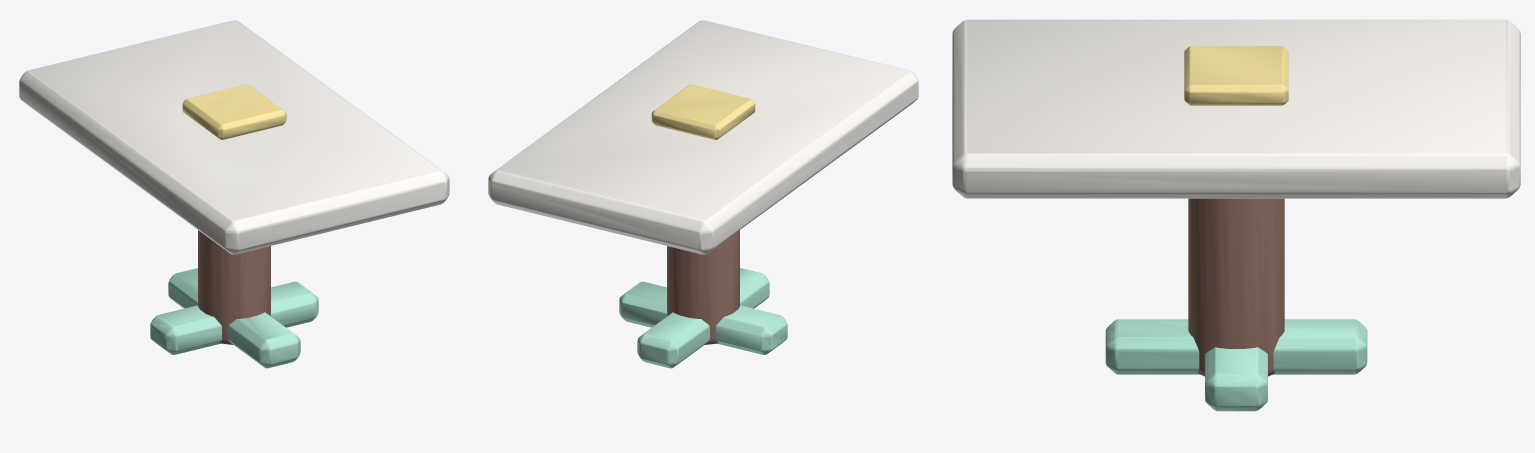
The model's file is dining_table_compact.glb.
3 views of the same model, side by side, from view 1: azimuth 30°, elevation 25°; view 2: azimuth 150°, elevation 25°; view 3: azimuth 270°, elevation 25° (orthographic). The views are drawn at different scales.
Parts seen in each view (by area): view 1: DiningTable_Top, DiningTable_Pedestal, DiningTable_FootA, DiningTable_CenterAccent, DiningTable_FootB; view 2: DiningTable_Top, DiningTable_Pedestal, DiningTable_FootA, DiningTable_CenterAccent, DiningTable_FootB; view 3: DiningTable_Top, DiningTable_Pedestal, DiningTable_FootB, DiningTable_CenterAccent, DiningTable_FootA.
Boxes of the visible parts, left/top/right/bottom form: DiningTable_Top: left=19, top=20, right=449, bottom=254; DiningTable_Pedestal: left=198, top=230, right=270, bottom=344; DiningTable_FootA: left=150, top=281, right=318, bottom=354; DiningTable_CenterAccent: left=182, top=84, right=286, bottom=139; DiningTable_FootB: left=168, top=268, right=300, bottom=368; DiningTable_Top: left=488, top=20, right=918, bottom=254; DiningTable_Pedestal: left=667, top=230, right=739, bottom=344; DiningTable_FootA: left=619, top=281, right=787, bottom=354; DiningTable_CenterAccent: left=651, top=84, right=755, bottom=139; DiningTable_FootB: left=637, top=268, right=769, bottom=368; DiningTable_Top: left=952, top=19, right=1520, bottom=198; DiningTable_Pedestal: left=1188, top=198, right=1284, bottom=376; DiningTable_FootB: left=1105, top=319, right=1367, bottom=374; DiningTable_CenterAccent: left=1184, top=46, right=1288, bottom=105; DiningTable_FootA: left=1205, top=347, right=1267, bottom=411.
Size of the model in its own units: 0.82 by 0.7955 by 1.36.
